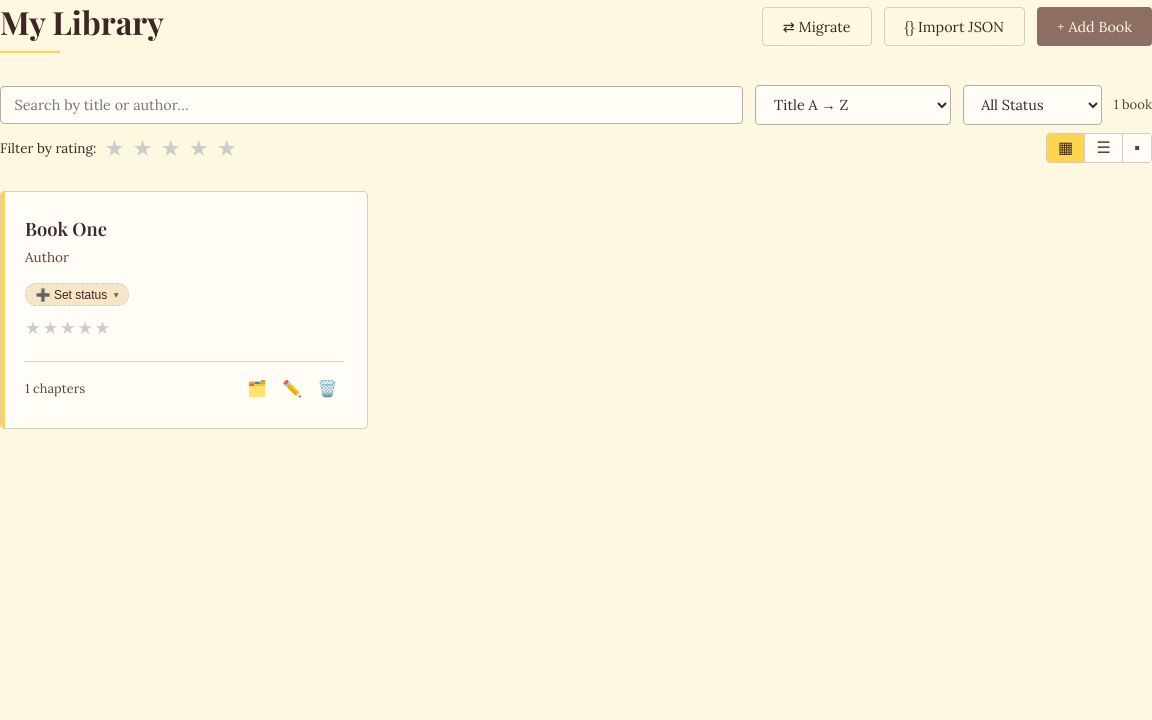
LibraryPage failures (FE-05) › reports a failed delete and keeps the confirmation open
Click the button titled "Delete".
click(327, 389)  # box [312,374,343,404]
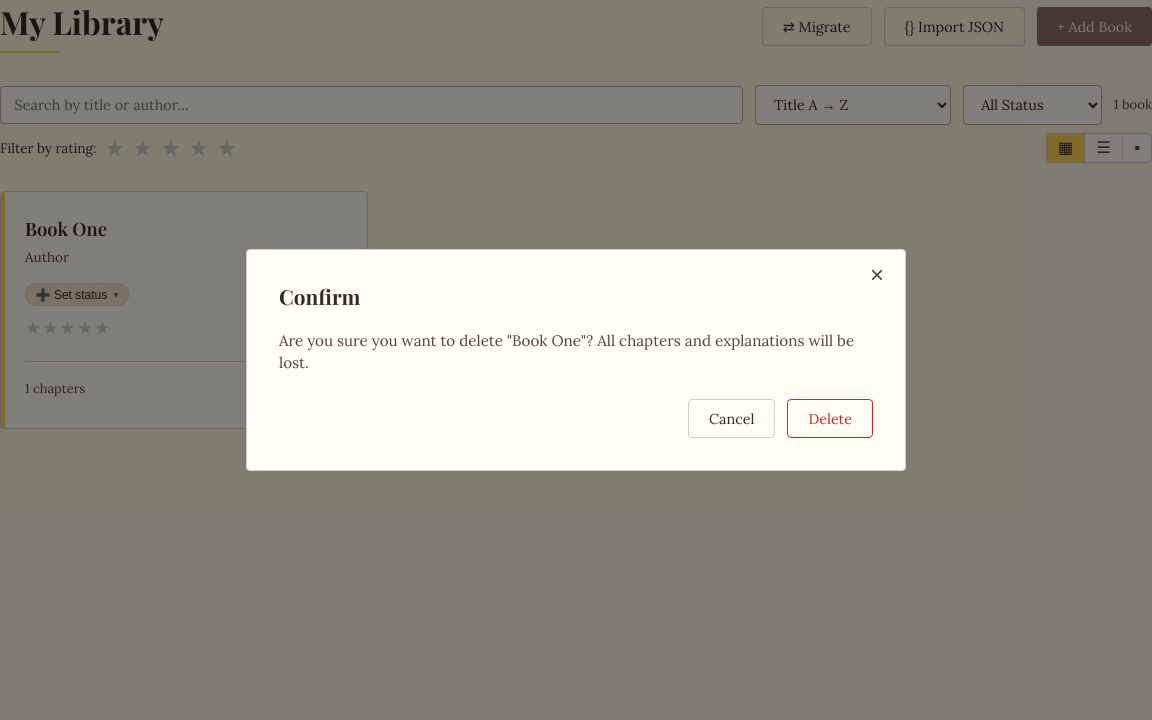
Click the button "Delete".
click(830, 419)  # box [788,399,873,438]
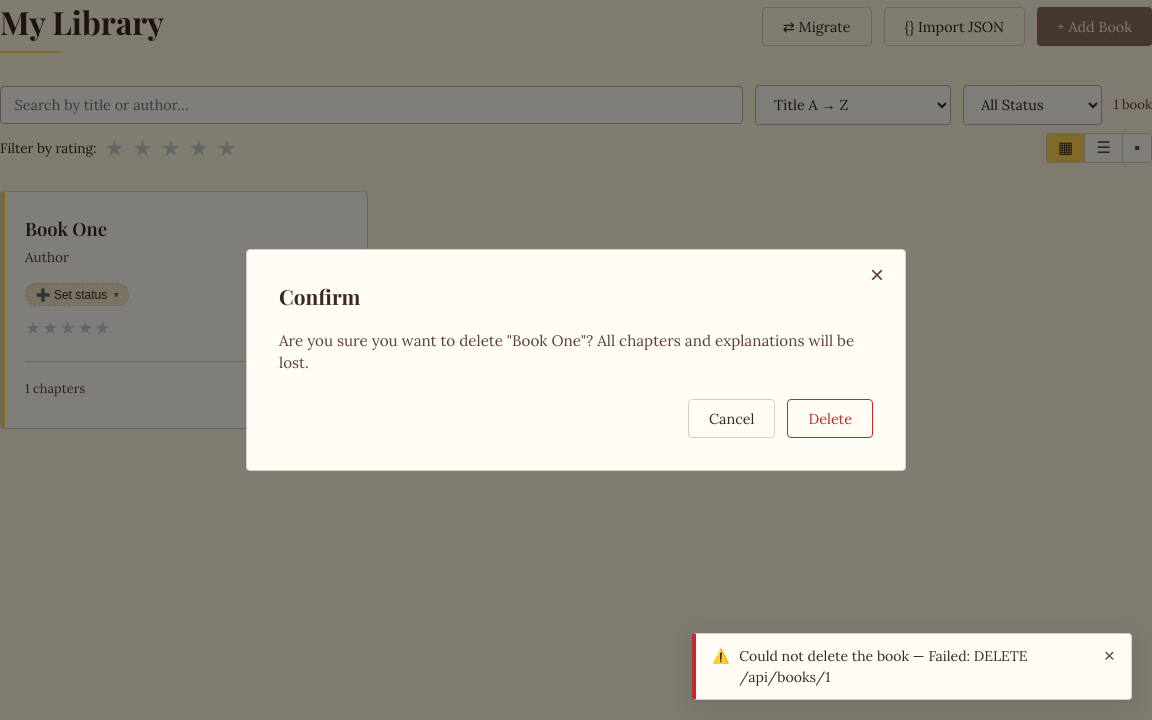
Result: the text "Are you sure you want to delete \"Book One\"? All chapters and explanations will be lost." is shown at [279,331,854,372]
Result: the message shows "Could not delete the book — Failed: DELETE /api/books/1" at [739,647,1028,686]
